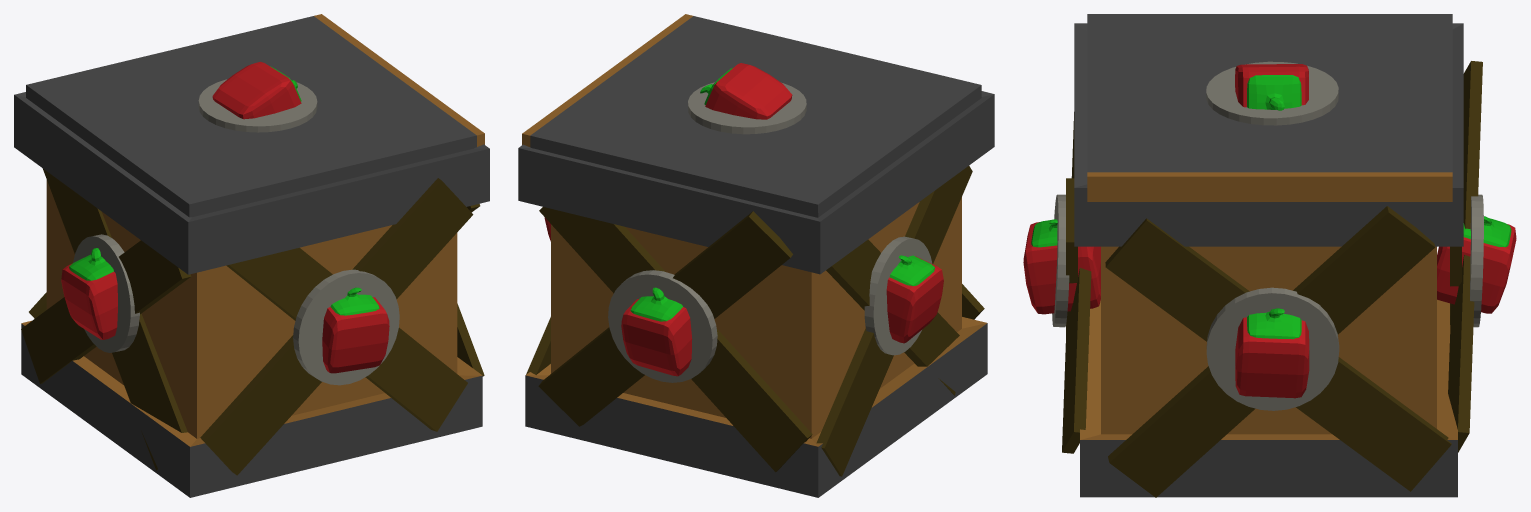
File: crate_tomato_full.fbx
3 renders of one model, left to right at view 1: azimuth 30°, elevation 25°; view 2: azimuth 150°, elevation 25°; view 3: azimuth 270°, elevation 25°, orthographic. The views are drawn at different scales.
Visible parts, largest first — view 1: Crate, Lid, Cube.004, Cube.003, Cube.005, Cube.006, Cylinder.001, Tomato.004, Tomato, Tomato.001, Cylinder.003, Cylinder.004 (+3 smaller); view 2: Crate, Lid, Cube.001, Cube.002, Cube.005, Cylinder, Tomato.003, Cube.006, Tomato, Cylinder.003, Tomato.001, Cylinder.004 (+3 smaller); view 3: Crate, Lid, Cube.008, Cube.007, Cylinder.002, Cube.002, Tomato.002, Cube.003, Cylinder.004, Tomato.004, Tomato.003, Tomato 2 (+7 smaller).
Part boxes in pixels (x1=…): Crate: x1=14, y1=92, x2=489, y2=497; Lid: x1=26, y1=14, x2=484, y2=217; Cube.004: x1=200, y1=178, x2=473, y2=475; Cube.003: x1=226, y1=247, x2=467, y2=431; Cube.005: x1=21, y1=240, x2=191, y2=383; Cube.006: x1=42, y1=168, x2=187, y2=470; Cylinder.001: x1=293, y1=269, x2=399, y2=385; Tomato.004: x1=322, y1=297, x2=389, y2=373; Tomato: x1=212, y1=61, x2=301, y2=119; Tomato.001: x1=61, y1=264, x2=117, y2=339; Cylinder.003: x1=73, y1=234, x2=139, y2=352; Cylinder.004: x1=198, y1=79, x2=317, y2=132; Crate: x1=518, y1=91, x2=994, y2=497; Lid: x1=522, y1=14, x2=981, y2=217; Cube.001: x1=539, y1=207, x2=812, y2=472; Cube.002: x1=538, y1=211, x2=792, y2=426; Cube.005: x1=816, y1=166, x2=972, y2=476; Cylinder: x1=608, y1=270, x2=717, y2=382; Tomato.003: x1=621, y1=298, x2=692, y2=376; Cube.006: x1=826, y1=239, x2=959, y2=395; Tomato: x1=705, y1=63, x2=792, y2=119; Cylinder.003: x1=864, y1=236, x2=932, y2=355; Tomato.001: x1=886, y1=256, x2=943, y2=343; Cylinder.004: x1=688, y1=82, x2=806, y2=134; Crate: x1=1074, y1=23, x2=1463, y2=497; Lid: x1=1087, y1=14, x2=1452, y2=201; Cube.008: x1=1105, y1=218, x2=1451, y2=491; Cube.007: x1=1108, y1=206, x2=1435, y2=497; Cylinder.002: x1=1206, y1=287, x2=1339, y2=410; Cube.002: x1=1448, y1=61, x2=1482, y2=452; Tomato.002: x1=1235, y1=317, x2=1309, y2=398; Cube.003: x1=1062, y1=112, x2=1091, y2=453; Cylinder.004: x1=1206, y1=61, x2=1338, y2=125; Tomato.004: x1=1023, y1=222, x2=1100, y2=314; Tomato.003: x1=1437, y1=224, x2=1516, y2=313; Tomato 2: x1=1247, y1=75, x2=1301, y2=110.
Bounding box in the file's own units: 961 × 795 × 985.
